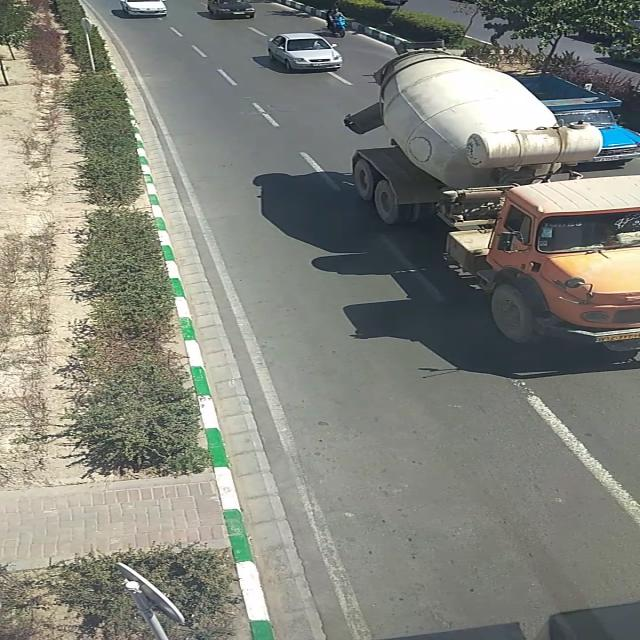bus: (341, 49, 640, 354)
car: (516, 73, 638, 165), (266, 33, 336, 73), (206, 2, 252, 20), (119, 0, 170, 16)
motor: (324, 8, 348, 40)
